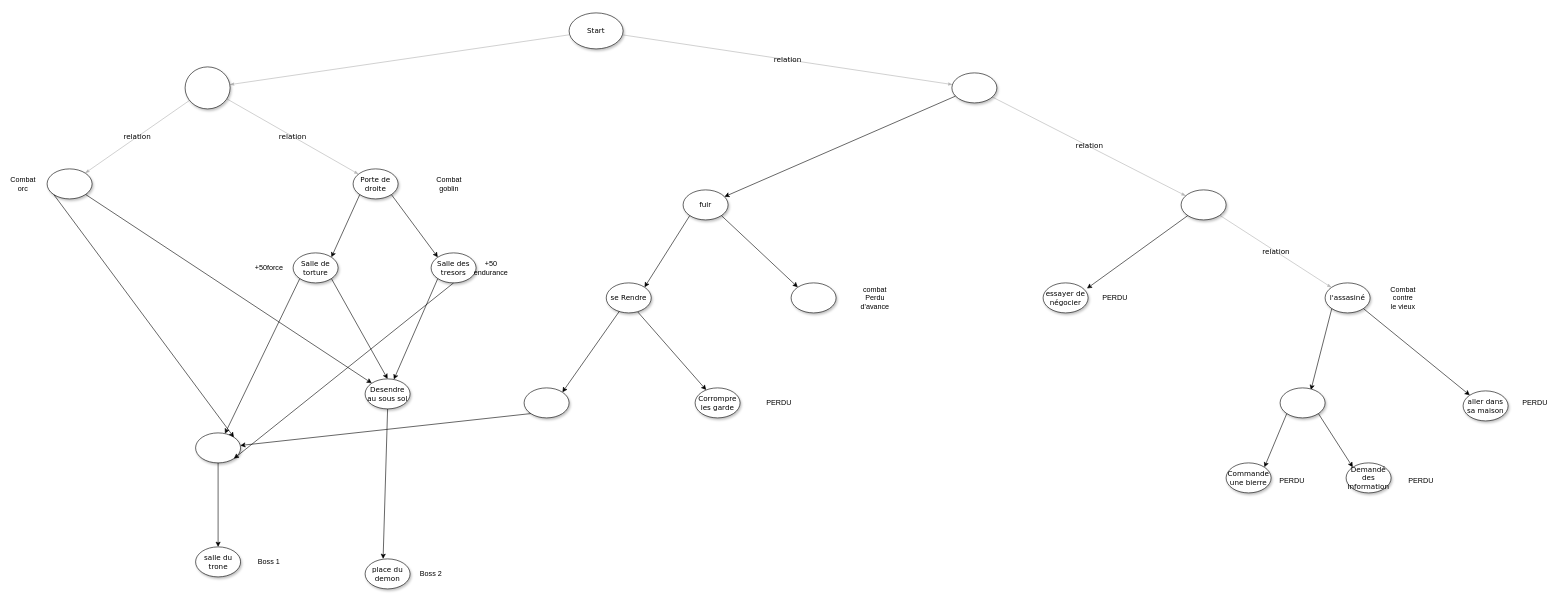
The diagram is 1558 pixels wide and 604 high, and some of its shapes have lost their labels. The shapes that lost their labels are listed below. From the top down, each one's centre as x and y in pixels, then its label:
(208,88): chateau
(974,88): village
(70,184): Porte de gauche
(1204,205): parler
(814,298): se debatre
(547,403): scié les barreau
(1303,403): aller a la taverne
(218,448): monté
